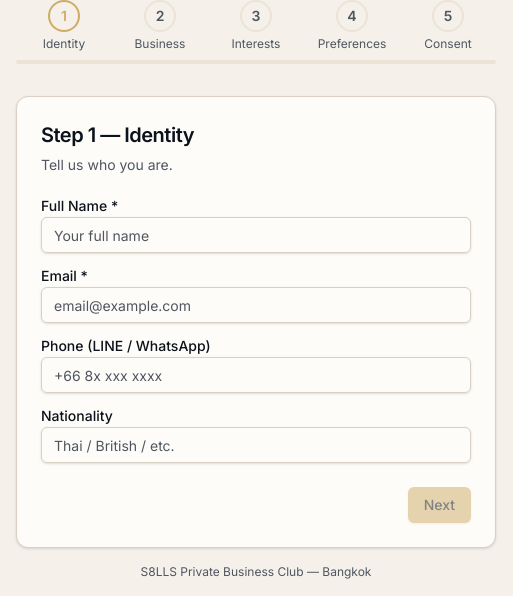
Test case: QRRegisterForm › Next disabled on step 2 until company name and industry are filled
Type "Alice Smith" into the field with placeholder "Your full name" at (256, 235), box [41,217,471,253]
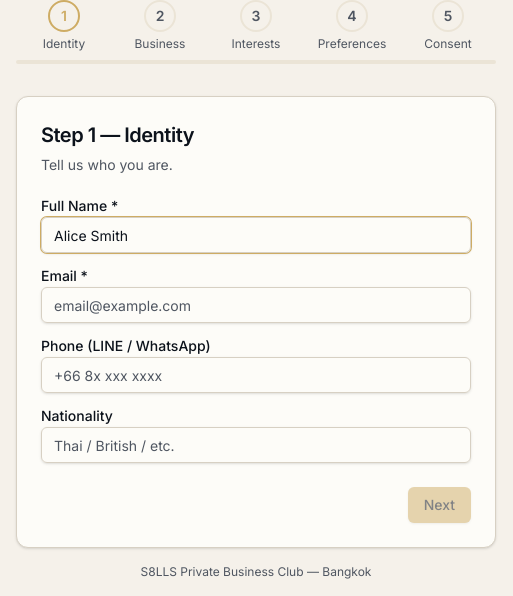
Type "alice@example.com" into the field with placeholder "email@example.com" at (256, 305), box [41,287,471,323]
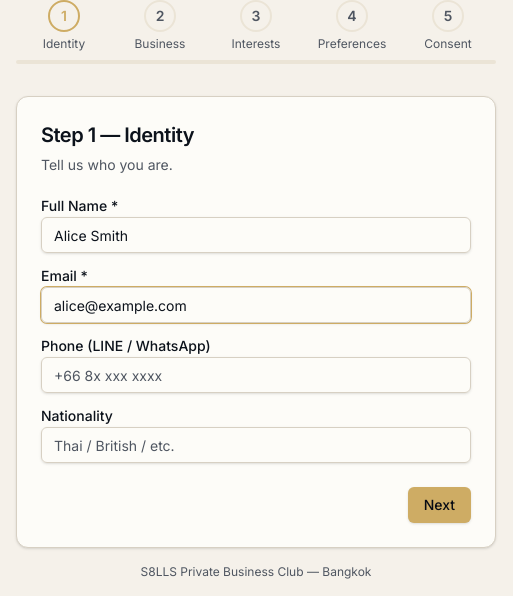
Click the button "Next" at (439, 505), box [408,487,471,523]
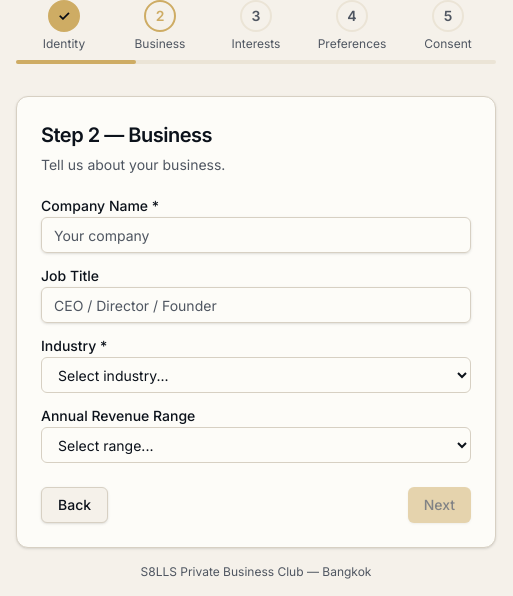
Expected: the text "Step 2 — Business" is shown, [41,123,212,147]
Expected: the button "Next" is disabled, [408,487,471,523]
Type "Acme Corp" into the field with placeholder "Your company" at (256, 235), box [41,217,471,253]
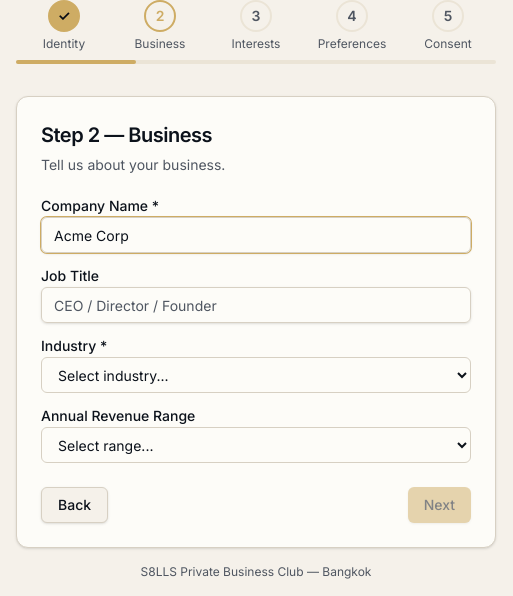
Select "Finance" in the dropdown showing "Select industry..." below "Industry *" at (256, 375), box [41,357,471,393]
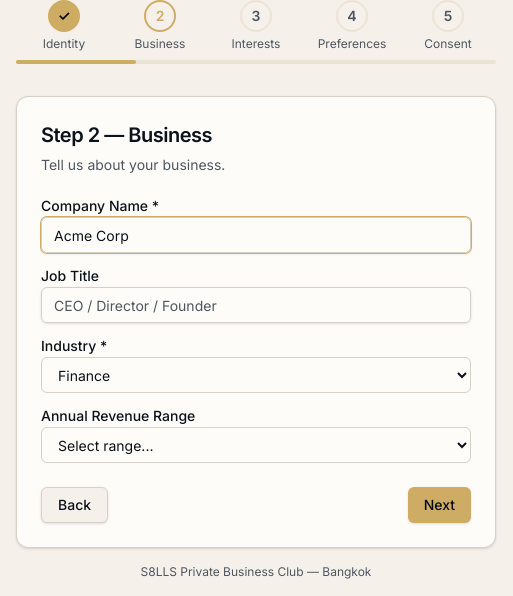
Expected: the button "Next" is enabled, [408,487,471,523]
